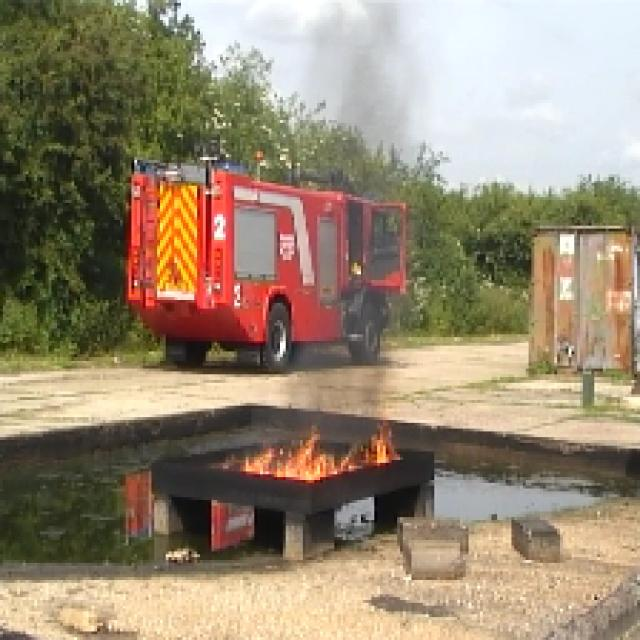fire: (258, 440, 392, 474)
